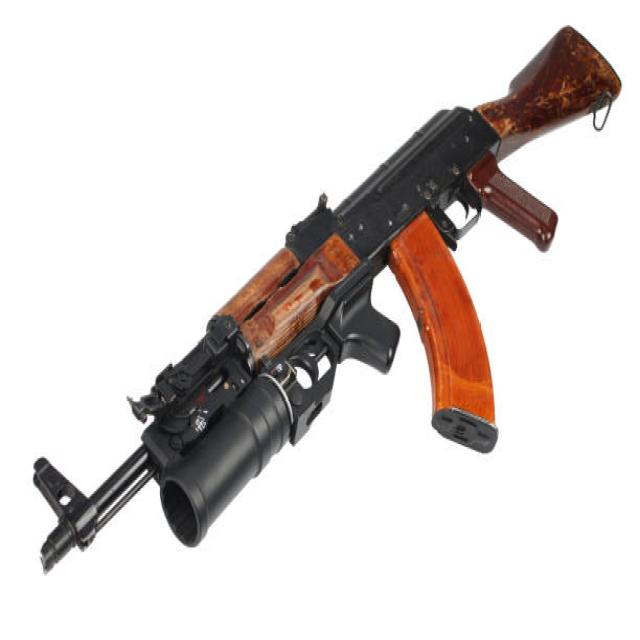rifle: (27, 15, 625, 585)
